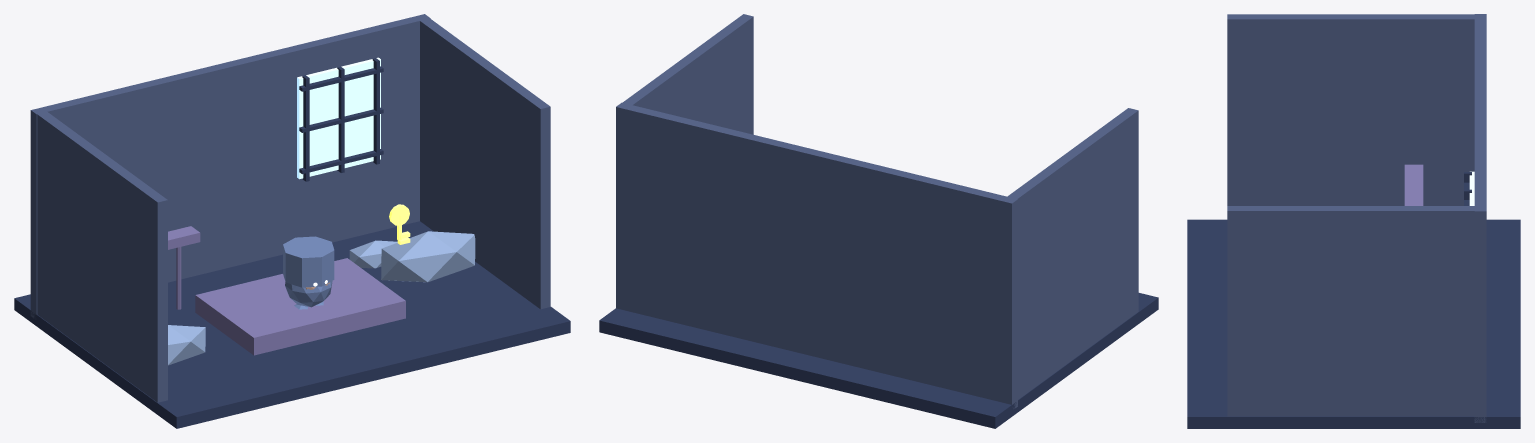
File: little_dream_demon_lowpoly.glb
3 views of the same model, side by side, from view 1: azimuth 30°, elevation 25°; view 2: azimuth 150°, elevation 25°; view 3: azimuth 270°, elevation 25° (orthographic). The views are drawn at different scales.
Visible parts, largest first — view 1: BackWall, RoomFloor, LeftWall, RightWall, MoonlitPlatform, WindowGlow, MistStone1, HeroHood, MistStone0, MistStone3, HeroBody, WindowMullion (+6 smaller); view 2: BackWall, LeftWall, RoomFloor, RightWall; view 3: RightWall, LeftWall, RoomFloor, BackWall, Shelf.
Part boxes in pixels (box(x1,y1,x2,y2)): BackWall: box(30, 14, 430, 319); RoomFloor: box(14, 221, 570, 428); LeftWall: box(35, 112, 167, 402); RightWall: box(420, 18, 550, 309); MoonlitPlatform: box(195, 258, 405, 355); WindowGlow: box(297, 57, 380, 179); MistStone1: box(381, 231, 475, 282); HeroHood: box(283, 236, 334, 287); MistStone0: box(168, 325, 205, 365); MistStone3: box(349, 240, 397, 268); HeroBody: box(285, 281, 332, 307); WindowMullion: box(302, 75, 309, 181); BackWall: box(616, 102, 1017, 408); LeftWall: box(1004, 108, 1138, 399); RoomFloor: box(599, 293, 1158, 428); RightWall: box(619, 14, 753, 134); RightWall: box(1227, 206, 1480, 416); LeftWall: box(1227, 14, 1480, 205); RoomFloor: box(1187, 219, 1520, 428); BackWall: box(1474, 14, 1486, 422); Shelf: box(1404, 164, 1423, 205).
Bounding box in the file's own units: 14 × 7.2 × 10.
